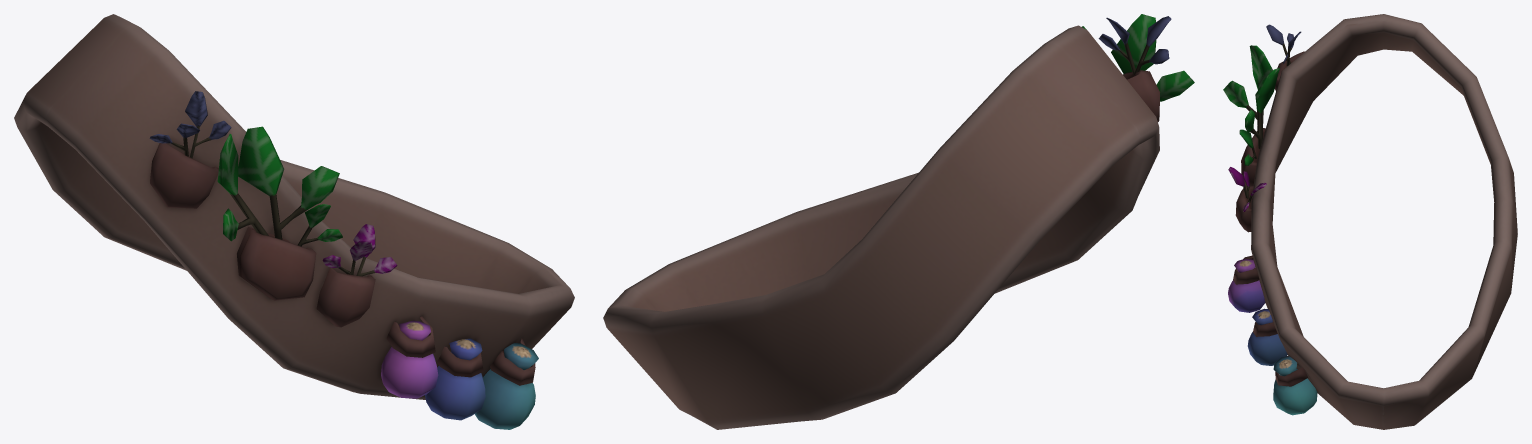
Rendered from medicine_sash.fbx.
The picture shows the model from 3 angles, left to right: view 1: azimuth 30°, elevation 25°; view 2: azimuth 150°, elevation 25°; view 3: azimuth 270°, elevation 25°; orthographic projection. The views are drawn at different scales.
Parts seen in each view (by area): view 1: medicine_sash; view 2: medicine_sash; view 3: medicine_sash.
Part boxes in pixels (<box>): medicine_sash: <box>14,14,574,429</box>; medicine_sash: <box>603,14,1194,429</box>; medicine_sash: <box>1223,14,1517,429</box>.
Bounding box in the file's own units: 108 × 88.03 × 78.48.
